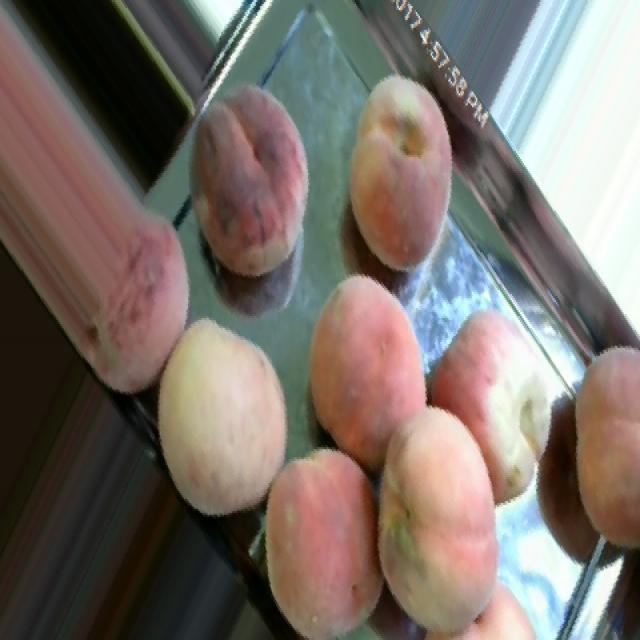Fruit: (2, 0, 230, 364), (331, 383, 533, 640), (117, 292, 315, 543), (158, 60, 338, 302), (222, 425, 418, 640), (321, 54, 487, 290), (290, 264, 438, 481), (545, 330, 640, 572)
